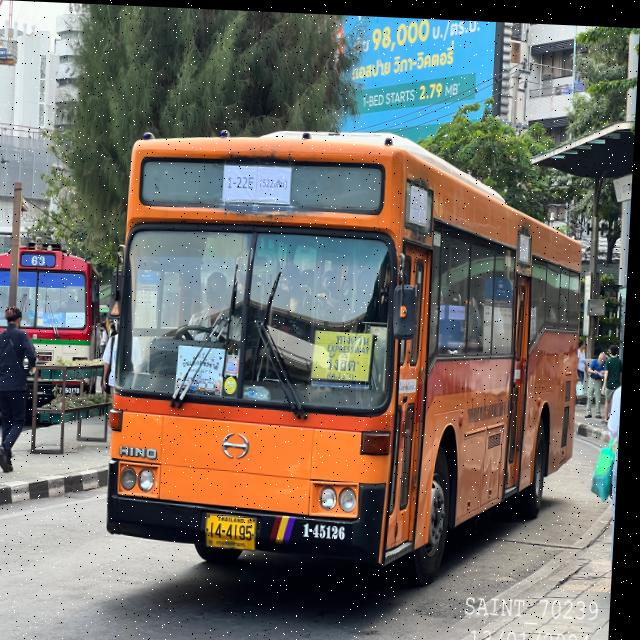BMTA-bus: (111, 129, 588, 581)
Bus Line Number: (220, 160, 301, 204)
Bus Side Number: (302, 515, 355, 546)
Destination Sign: (315, 326, 378, 379)
